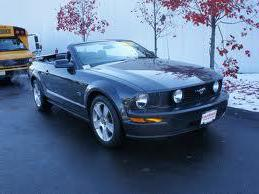Car: (26, 29, 242, 154)
